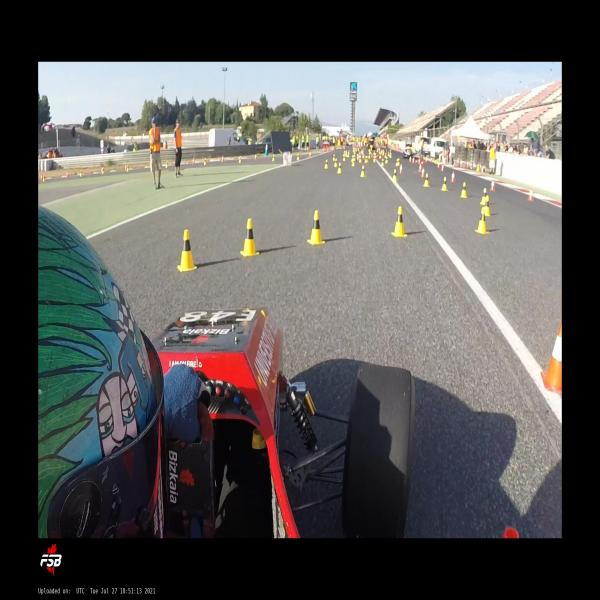orange_cone: (540, 318, 562, 394), (527, 189, 534, 201), (490, 180, 495, 191), (451, 171, 455, 182), (422, 166, 425, 177), (221, 156, 224, 163), (400, 164, 402, 174), (419, 164, 421, 172), (66, 172, 69, 177), (125, 164, 127, 171), (442, 165, 444, 171), (255, 154, 257, 160), (309, 151, 311, 157), (40, 174, 42, 180), (193, 158, 194, 164)
unknown_cone: (265, 143, 268, 156)
yellow_cone: (177, 229, 197, 272), (240, 218, 260, 257), (307, 210, 325, 244), (391, 206, 408, 237), (474, 207, 488, 234), (484, 196, 491, 216), (440, 176, 449, 191), (480, 188, 487, 204), (461, 181, 467, 198), (423, 173, 430, 187), (360, 165, 366, 177), (392, 169, 397, 181), (337, 162, 341, 174), (334, 158, 338, 167), (351, 158, 355, 167), (325, 159, 328, 169), (343, 153, 346, 162), (381, 158, 384, 166), (101, 167, 104, 175), (365, 156, 368, 163), (272, 154, 275, 161), (333, 154, 335, 162), (359, 155, 361, 163), (204, 158, 206, 166), (126, 164, 128, 172), (80, 169, 82, 177), (42, 174, 44, 182), (373, 156, 375, 163), (386, 157, 388, 164), (396, 159, 398, 166), (398, 158, 400, 165), (297, 153, 299, 160), (239, 156, 241, 163), (166, 161, 168, 168)
